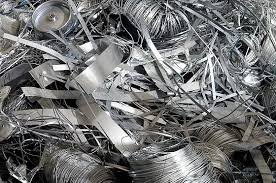metal: (22, 36, 137, 98), (67, 91, 149, 156), (123, 135, 224, 183), (35, 141, 117, 183), (25, 1, 82, 37)
